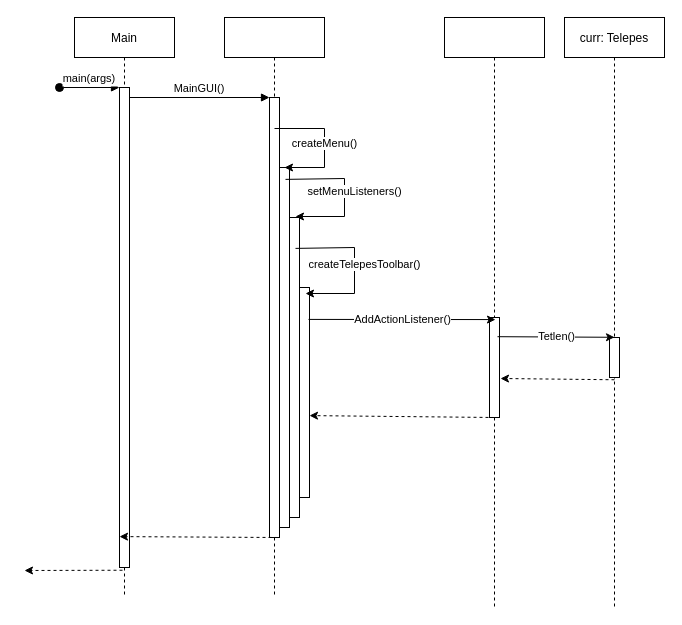
Some shapes in this 682 by 625 pixel diagram are drawn without their labels. The box of each missing label's shape, as (x1, y1, x2, y2) in pixels:
bTetlen:Button: (444, 16, 544, 608)
form: MainGUI: (224, 16, 324, 598)
